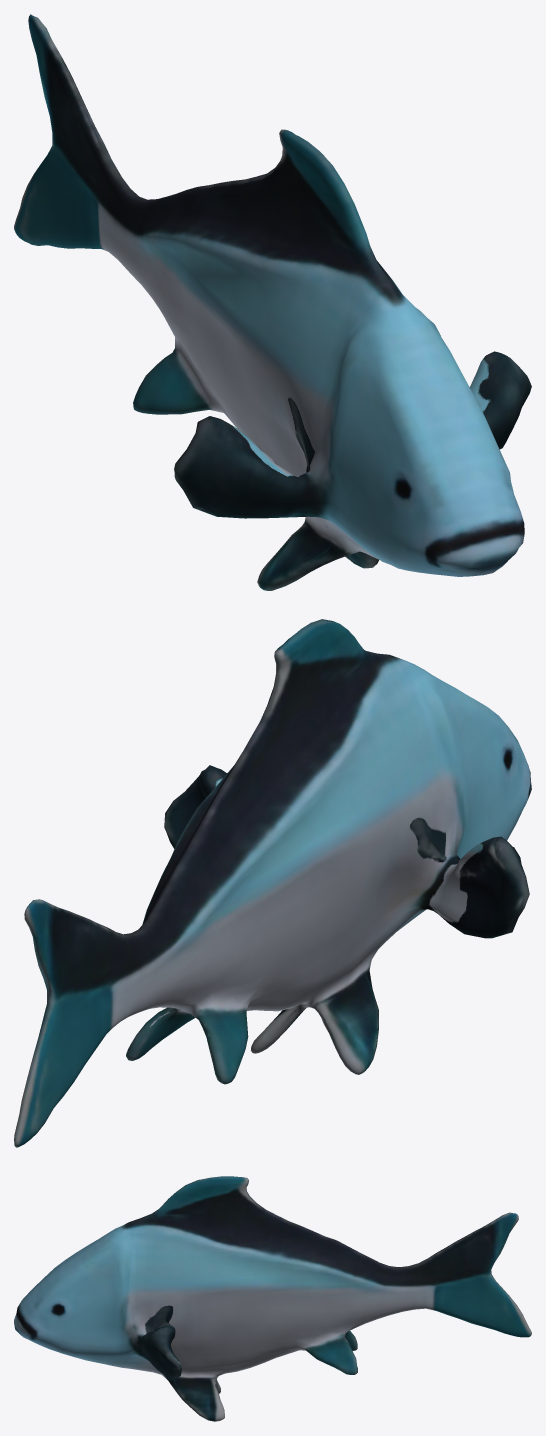
Rendered from fish_08.glb.
The picture shows the model from 3 angles, top to bottom: view 1: azimuth 30°, elevation 25°; view 2: azimuth 150°, elevation 25°; view 3: azimuth 270°, elevation 25°; orthographic projection. The views are drawn at different scales.
Visible parts, largest first — view 1: mesh; view 2: mesh; view 3: mesh.
Part boxes in pixels (left/top/right/bottom): mesh: left=14, top=14, right=531, bottom=590; mesh: left=14, top=619, right=531, bottom=1147; mesh: left=14, top=1176, right=531, bottom=1421.
Size of the model in its own units: 0.4274 by 0.4942 by 0.9968.
Materials: 1 (1 with a texture image).
